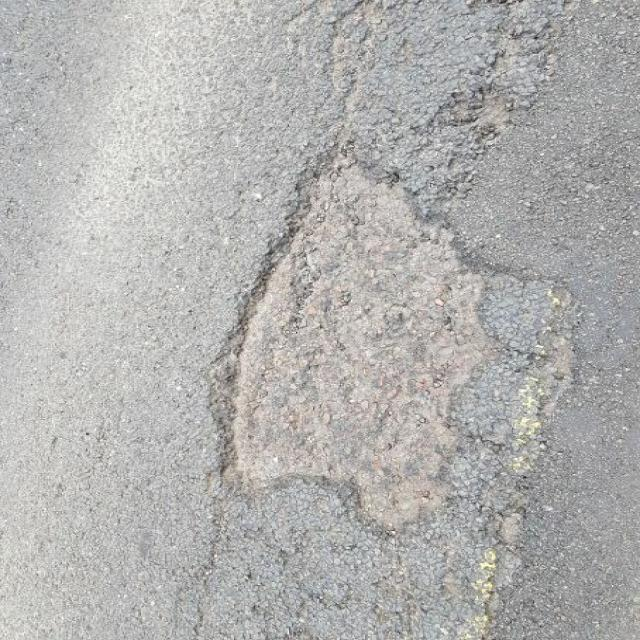pothole: (199, 133, 564, 544)
